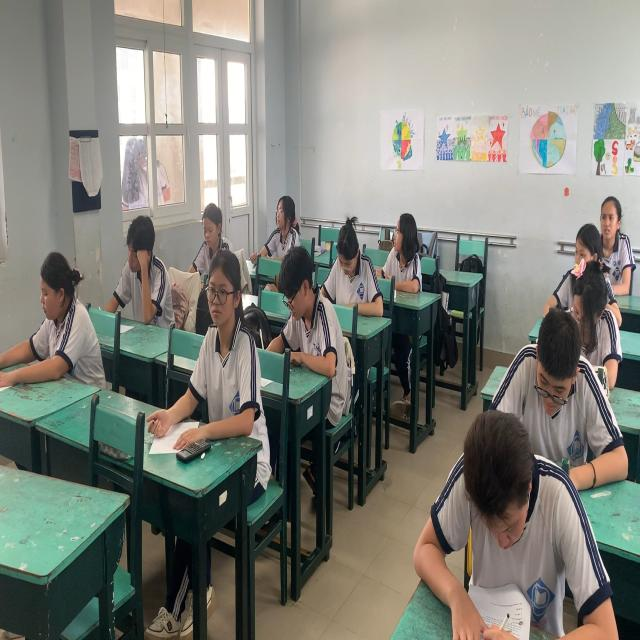cheating: (382, 208, 422, 298)
not_cheating: (428, 402, 566, 637), (516, 305, 614, 474), (199, 243, 263, 437), (273, 232, 343, 391), (28, 246, 96, 377), (561, 226, 617, 384), (114, 212, 176, 323), (599, 184, 640, 301), (331, 208, 374, 304), (265, 191, 304, 250), (191, 198, 228, 257)
